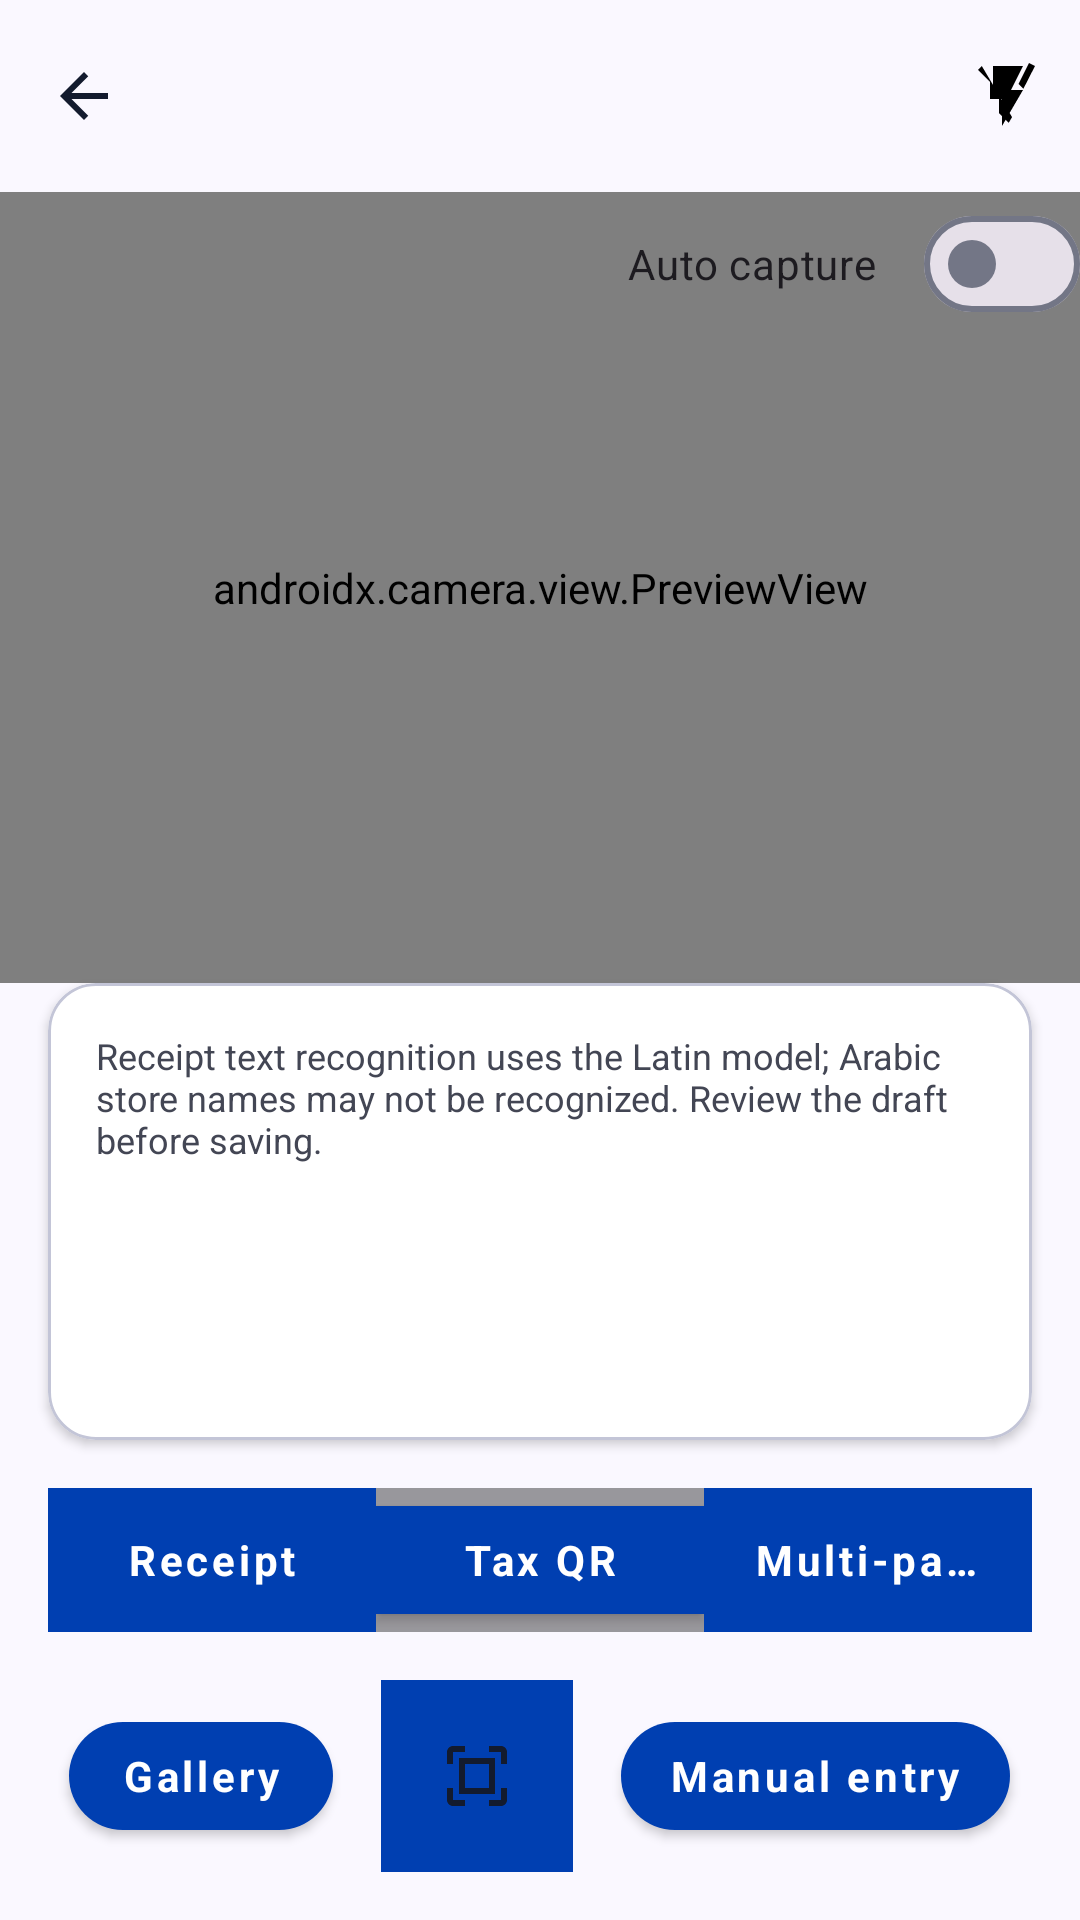

Icons on this 1080×1920 Android screen, each with the point to tap as [x,y]:
Toggle torch: [1006,94]
